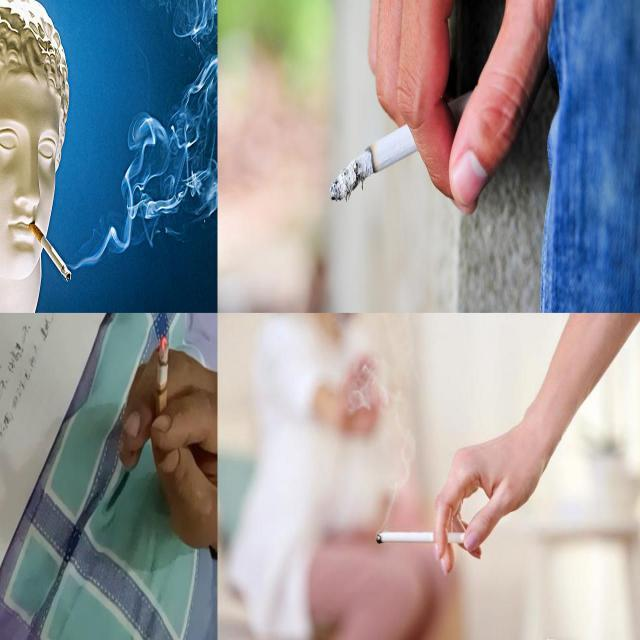cigarette: (331, 88, 479, 202), (28, 222, 72, 284), (156, 334, 169, 444), (376, 533, 472, 545)
